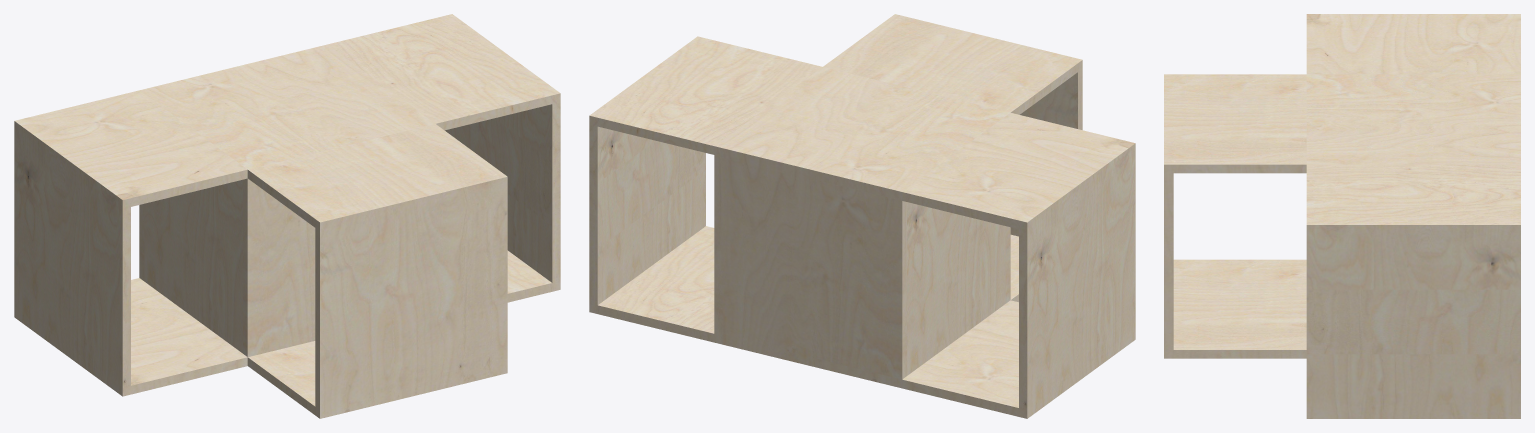
Rendered from Base shelf Vertical Divider.fbx.
The picture shows the model from 3 angles, left to right: view 1: azimuth 30°, elevation 25°; view 2: azimuth 150°, elevation 25°; view 3: azimuth 270°, elevation 25°; orthographic projection.
Visible parts, largest first — view 1: Corner TL, Corner TR.001, Corner BL, Corner L, Croner BR.001, Corner TR, Shelf TL, Corner R.001, Corner TMR.001, Corner TMR, Corner TML, Shelf TR (+14 smaller); view 2: Shelf TR, Corner TR.001, Shelf R, Shelf BR, Croner BR, Croner BR.001, Corner TR, Corner TL, Corner R.001, Corner TMR, Corner TMR.001, Corner TML (+14 smaller); view 3: Corner TR, Corner R, Croner BR, Corner TL, Corner BML, Corner TML, Corner BL, Corner TMR, Corner TMR.001, Shelf TL, Shelf TR, Shelt T (+2 smaller).
Part boxes in pixels (x1,y1,x2,y2): Corner TL: (284,150,507,287); Corner TR.001: (14,105,185,265); Corner BL: (284,308,507,418); Corner L: (315,242,507,353); Croner BR.001: (14,252,185,396); Corner TR: (390,14,560,160); Shelf TL: (212,97,435,234); Corner R.001: (14,186,130,330); Corner TMR.001: (77,90,247,193); Corner TMR: (327,29,497,130); Corner TML: (247,124,470,204); Shelf TR: (140,44,362,116); Shelf TR: (714,120,937,257); Corner TR.001: (964,128,1135,287); Shelf R: (714,211,906,322); Shelf BR: (714,277,906,379); Croner BR: (589,170,714,327); Croner BR.001: (964,274,1135,418); Corner TR: (589,36,759,182); Corner TL: (859,14,1082,128); Corner R.001: (1019,209,1135,353); Corner TMR: (652,51,822,154); Corner TMR.001: (902,112,1072,215); Corner TML: (823,40,1046,114); Corner TR: (1306,195,1520,289); Corner R: (1306,289,1520,354); Croner BR: (1306,354,1520,418); Corner TL: (1164,74,1235,229); Corner BML: (1235,259,1306,358); Corner TML: (1235,74,1306,173); Corner BL: (1164,259,1235,358); Corner TMR: (1306,164,1520,194); Corner TMR.001: (1306,44,1520,74); Shelf TL: (1306,74,1378,164); Shelf TR: (1449,74,1520,164); Shelt T: (1378,74,1449,164).
Size of what is drawn, in the model's own units: 467 by 200 by 333.
